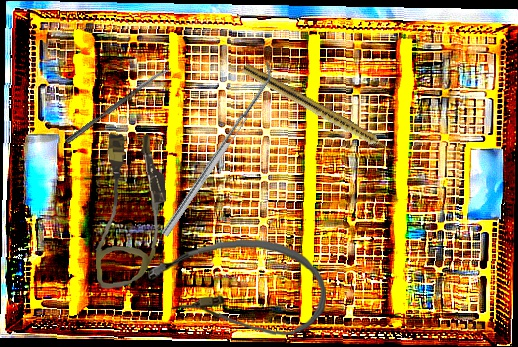Cannula: (146, 235, 328, 344), (89, 131, 171, 290)
Handpiece: (240, 63, 398, 159)
Spatula Surgical: (155, 61, 280, 238)
Surgical Spoon: (64, 64, 172, 146)
